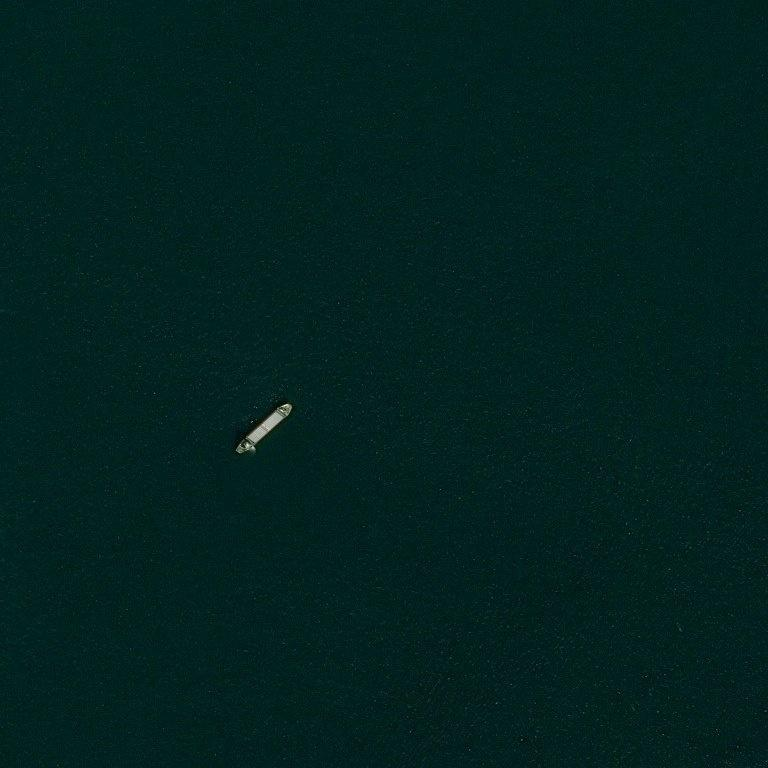ship: (235, 403, 293, 455), (289, 405, 291, 408), (9, 452, 11, 454), (237, 450, 237, 450)
